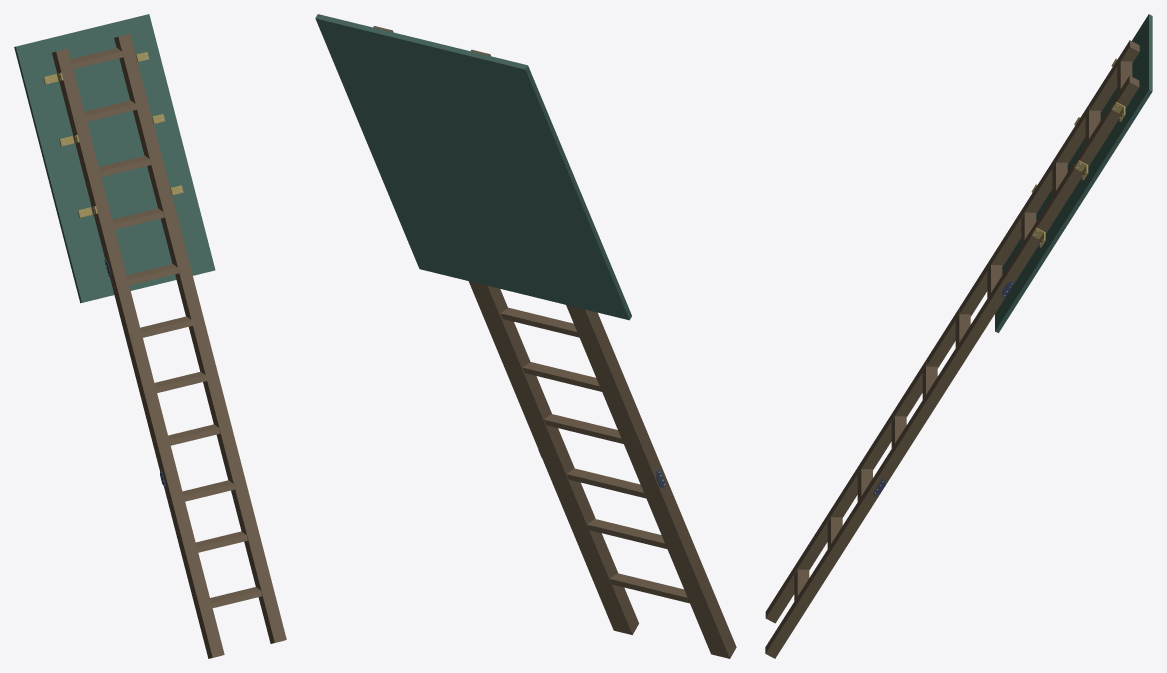
File: ext_ladder.fbx
The picture shows the model from 3 angles, left to right: view 1: azimuth 30°, elevation 25°; view 2: azimuth 150°, elevation 25°; view 3: azimuth 270°, elevation 25°; orthographic projection. The views are drawn at different scales.
Visible parts, largest first — view 1: ext_ladder; view 2: ext_ladder; view 3: ext_ladder.
Part boxes in pixels (x1=…): ext_ladder: x1=14, y1=14, x2=286, y2=658; ext_ladder: x1=315, y1=14, x2=736, y2=658; ext_ladder: x1=765, y1=14, x2=1152, y2=658.
Size of the model in its own units: 15.92 by 57.25 by 34.35.
